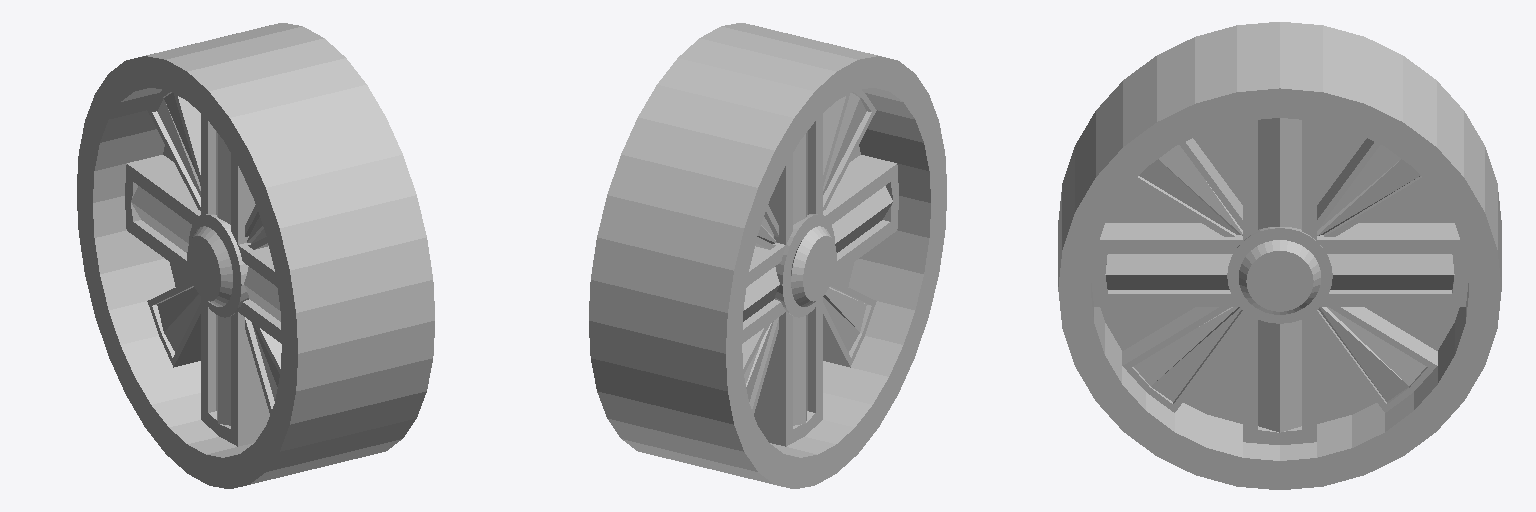
Rendered from caRRR wheel.obj.
3 renders of one model, left to right at view 1: azimuth 30°, elevation 25°; view 2: azimuth 150°, elevation 25°; view 3: azimuth 270°, elevation 25°, orthographic.
Parts seen in each view (by area): view 1: wheel_Cylinder; view 2: wheel_Cylinder; view 3: wheel_Cylinder.
Part boxes in pixels (left/top/right/bottom): wheel_Cylinder: left=77, top=23, right=434, bottom=488; wheel_Cylinder: left=589, top=23, right=946, bottom=488; wheel_Cylinder: left=1058, top=22, right=1501, bottom=489.
Size of the model in its own units: 0.5565 by 1.56 by 1.56.